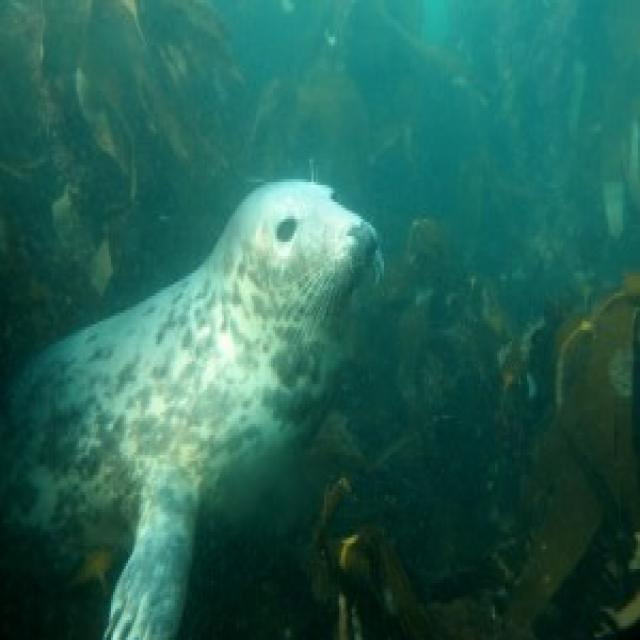Seal: (0, 173, 397, 640)
